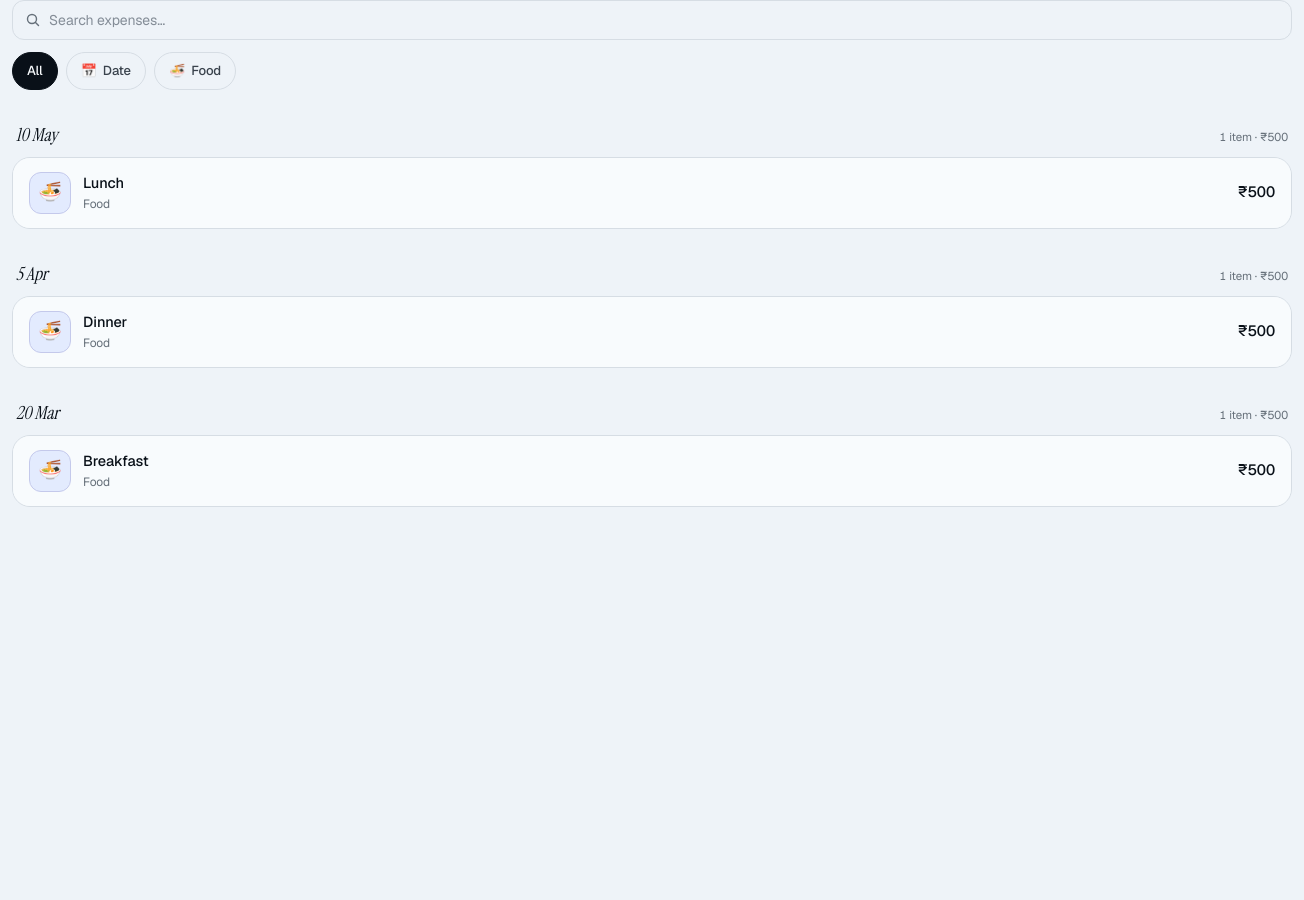
Test: MobileExpenses — dismissable date pill › tapping the dismiss pill clears the date filter and restores the full list
Click the button "📅 Date": (106, 71) [66,52,146,90]
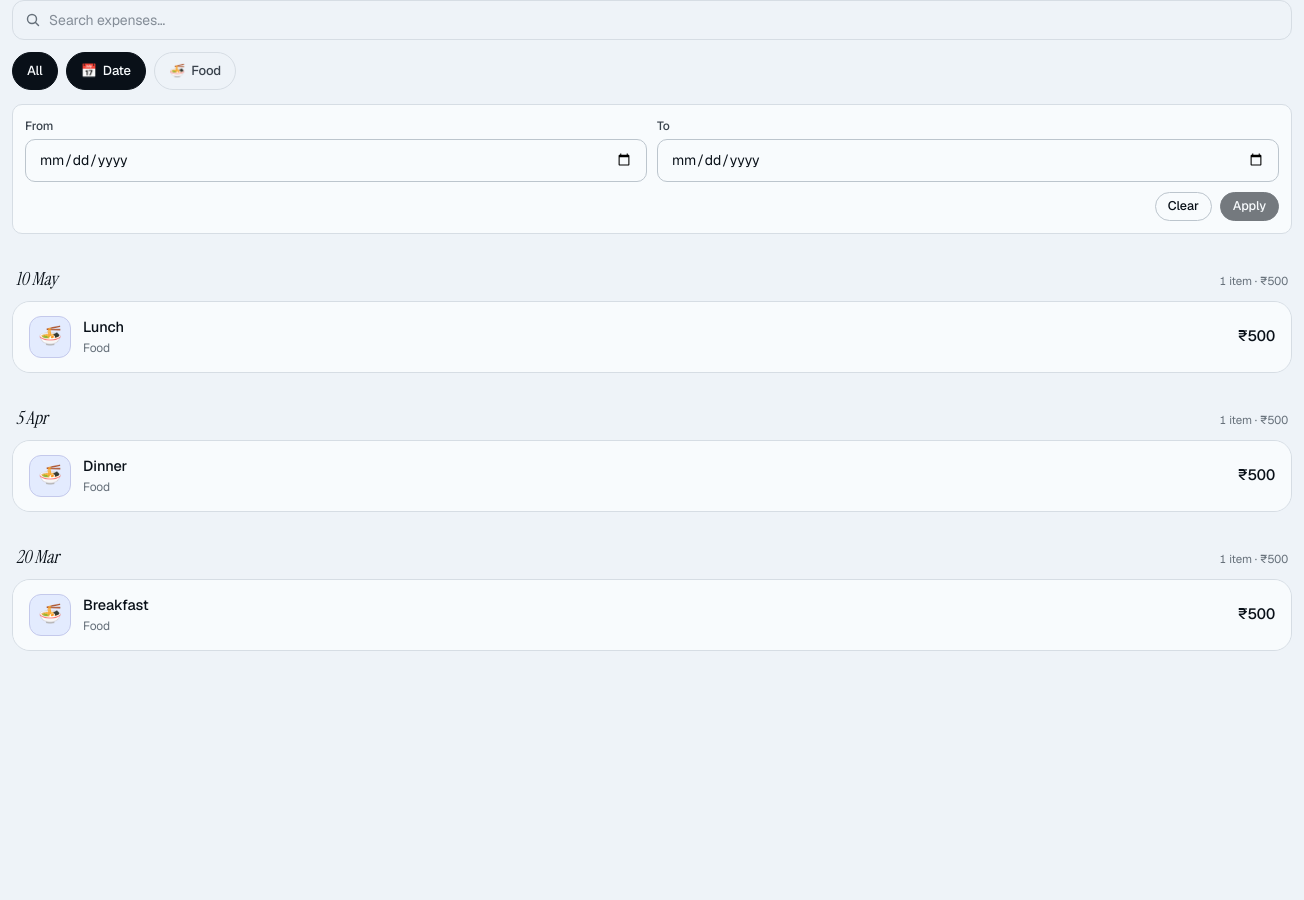
In the date field labelled "From": (336, 160) [25,138,647,182], type "2025-05-01"
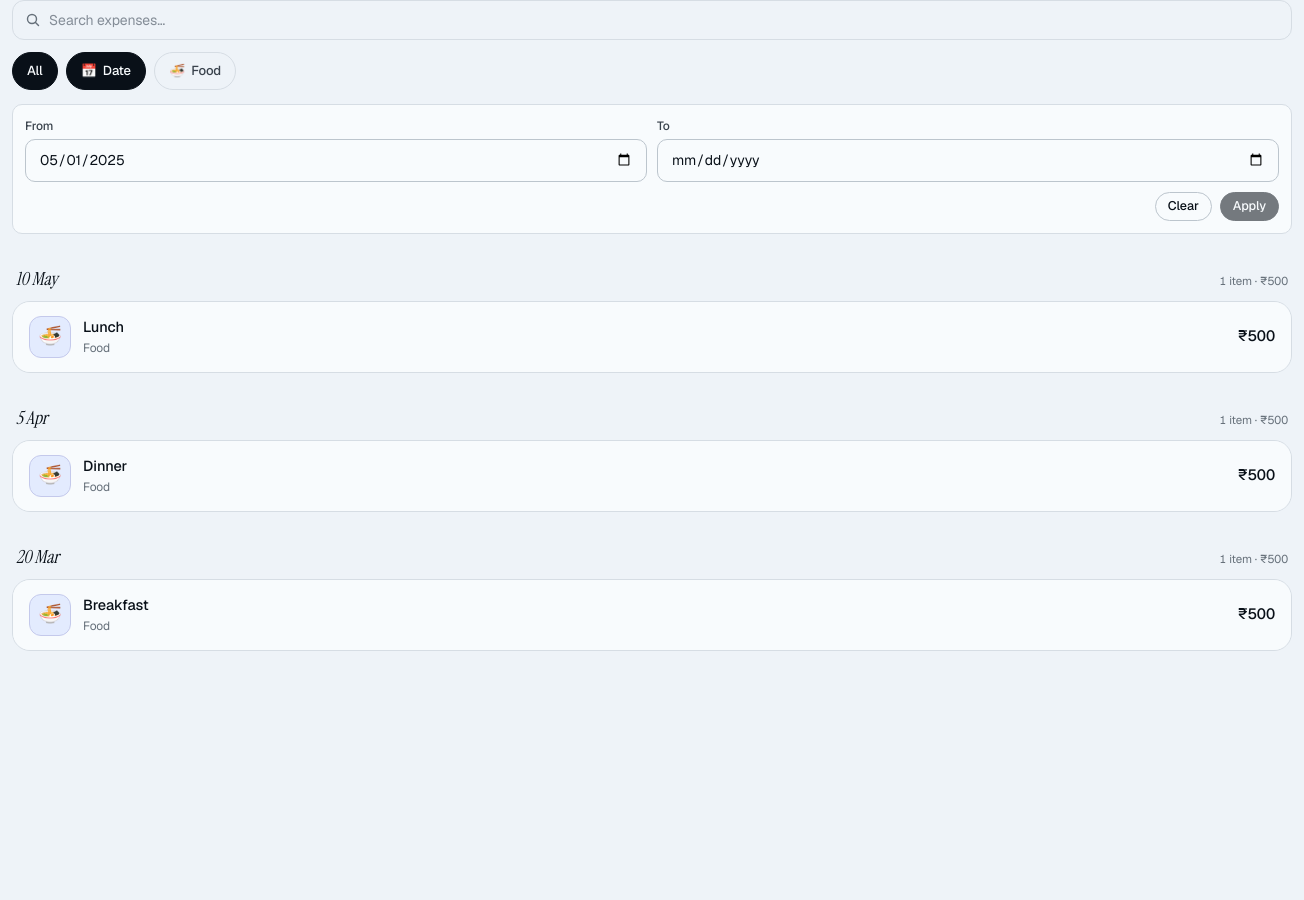
In the date field labelled "To": (968, 160) [657,138,1279,182], type "2025-05-21"
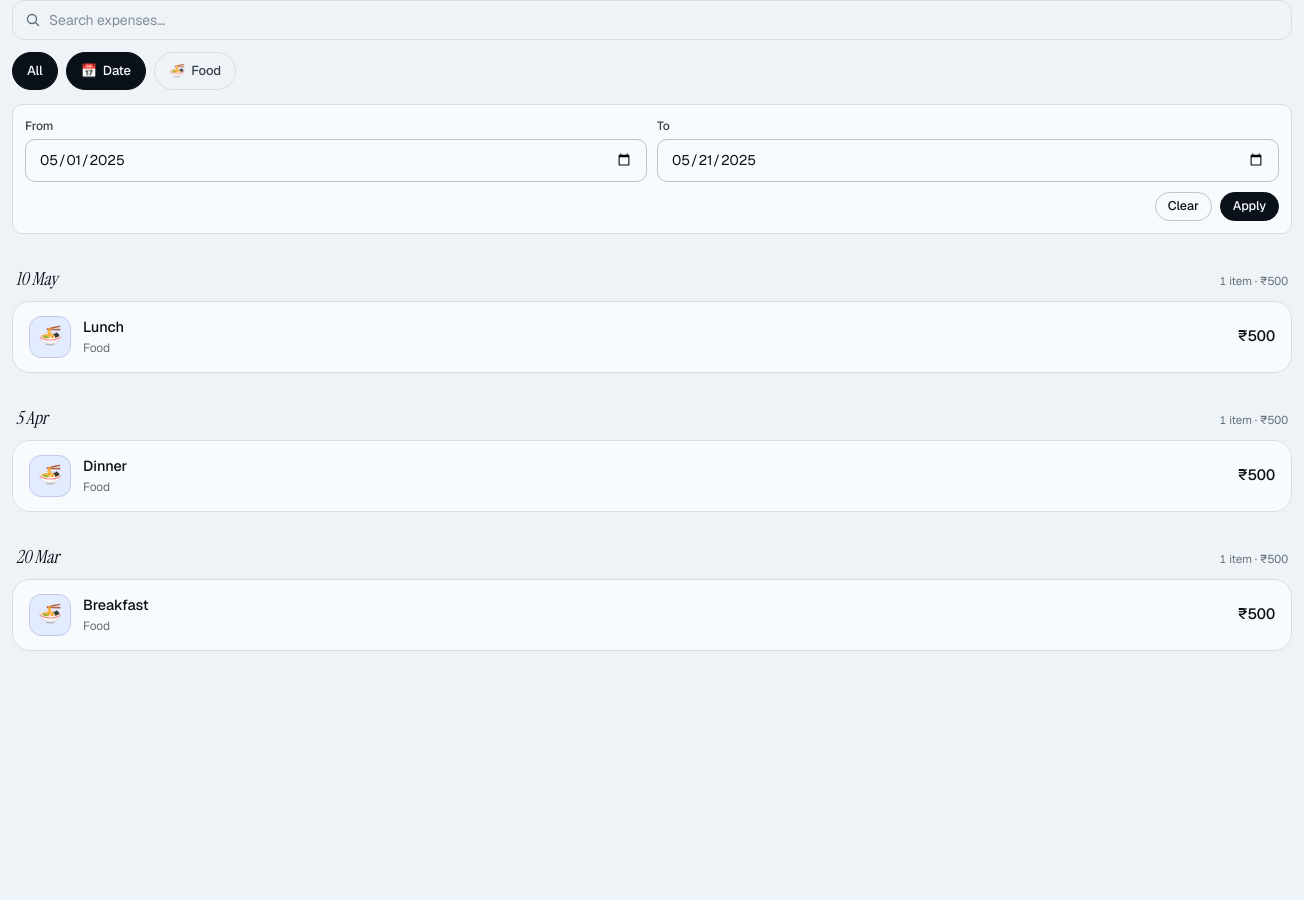
Click the button "Apply": (1249, 206) [1220,192,1279,221]
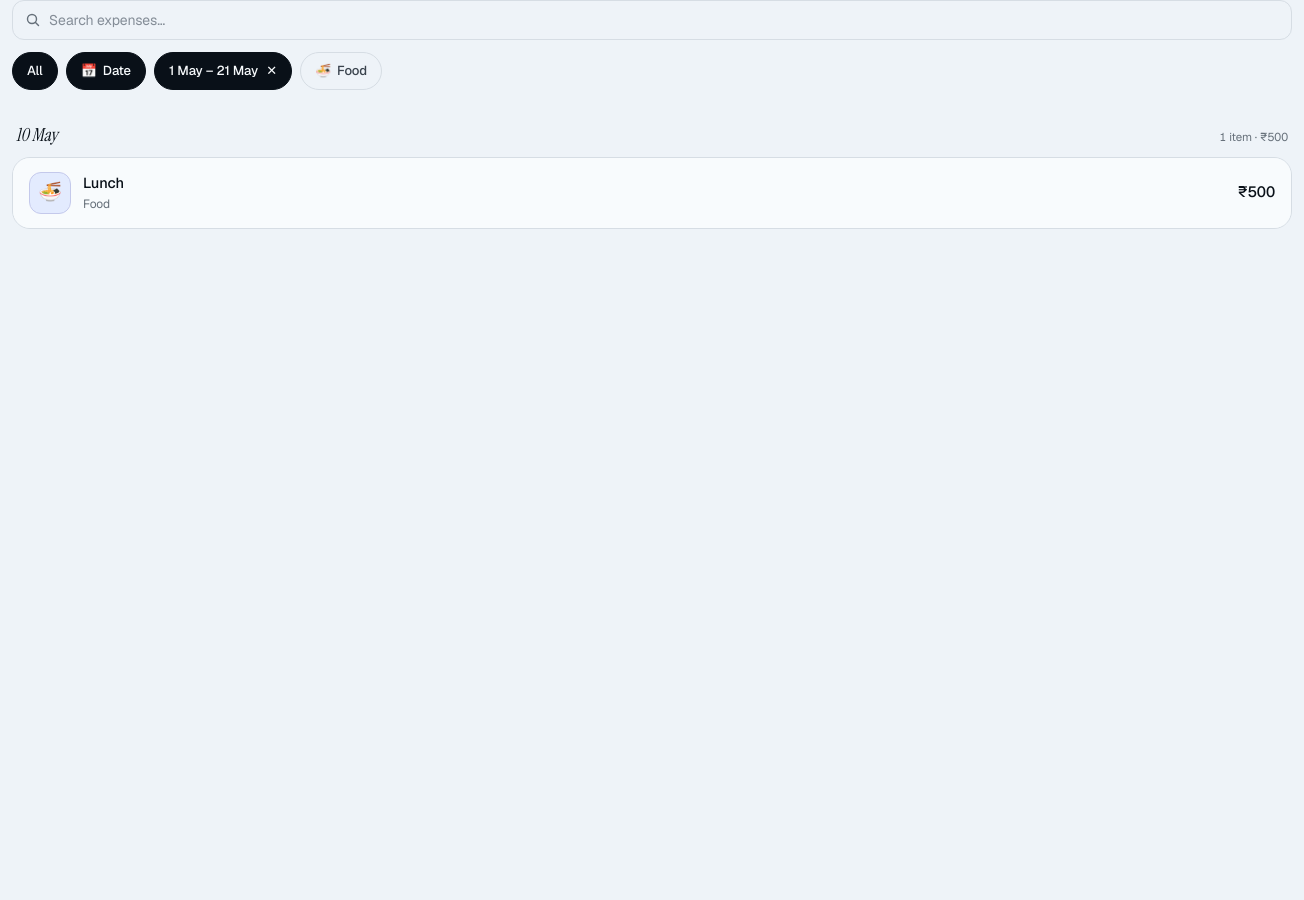
Expected: the button "Dinner" is gone
Click the button with aria-label "clear date filter": (223, 71) [154,52,292,90]
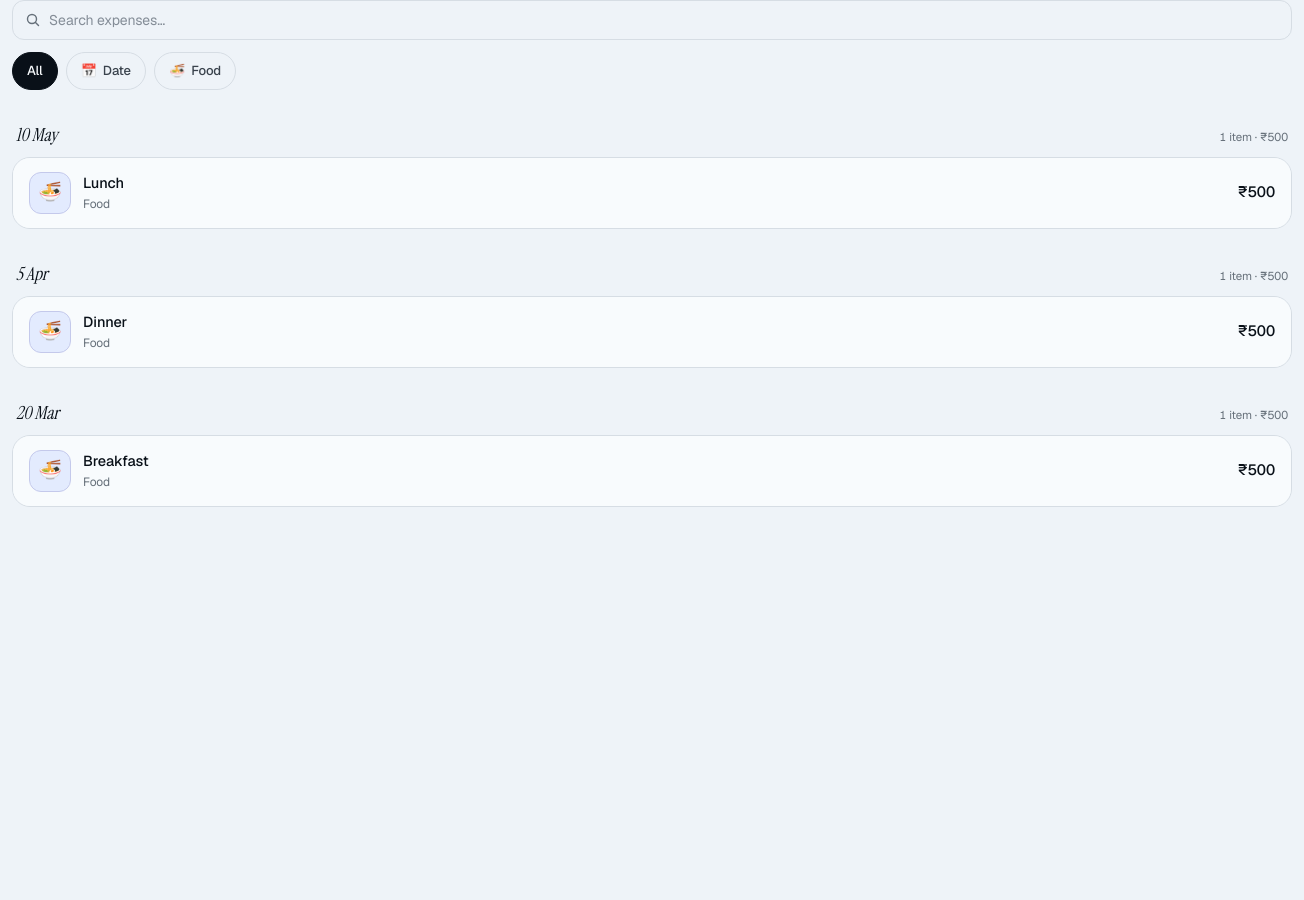
Expected: the text "Dinner" is shown, [83,312,127,331]
Expected: the text "Breakfast" is shown, [83,451,149,470]
